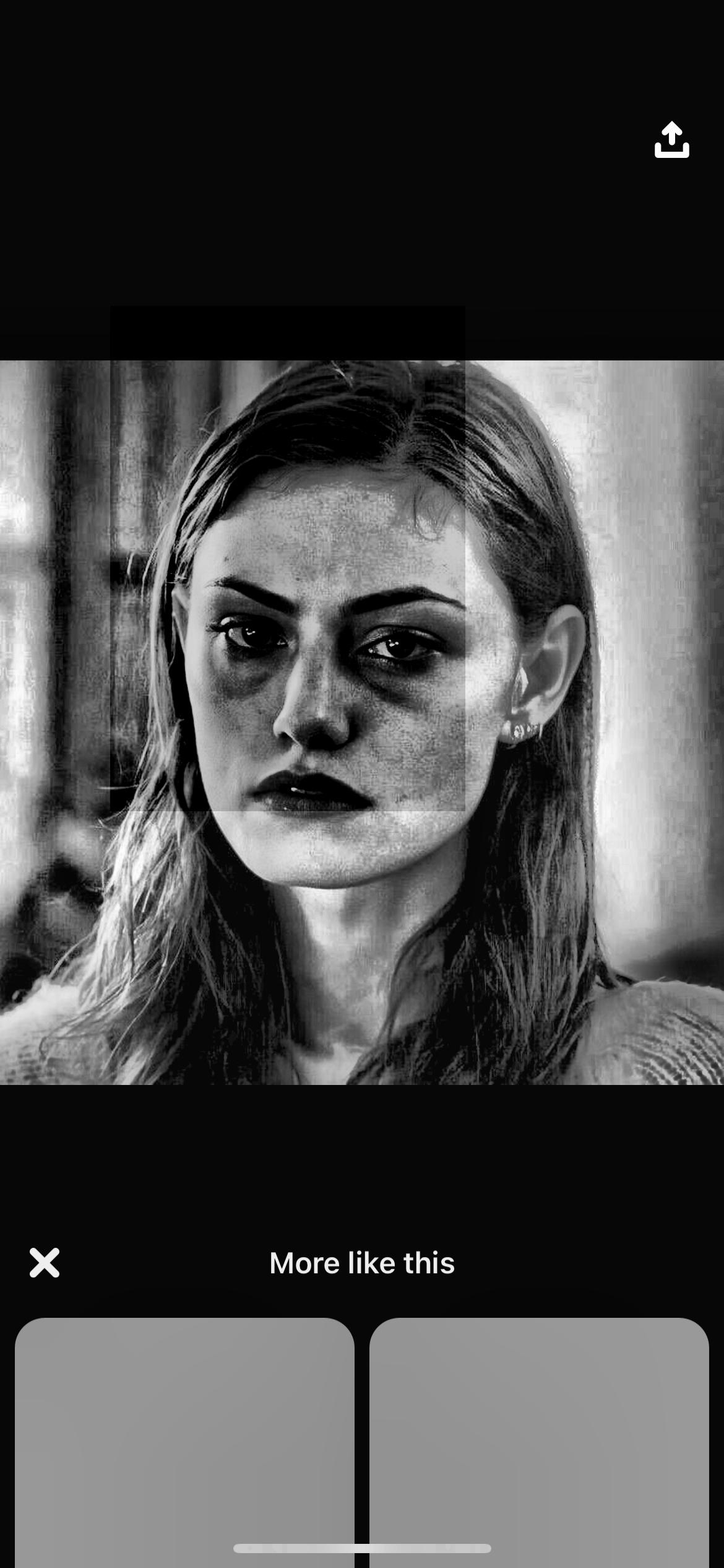sad: (136, 378, 576, 1003)
